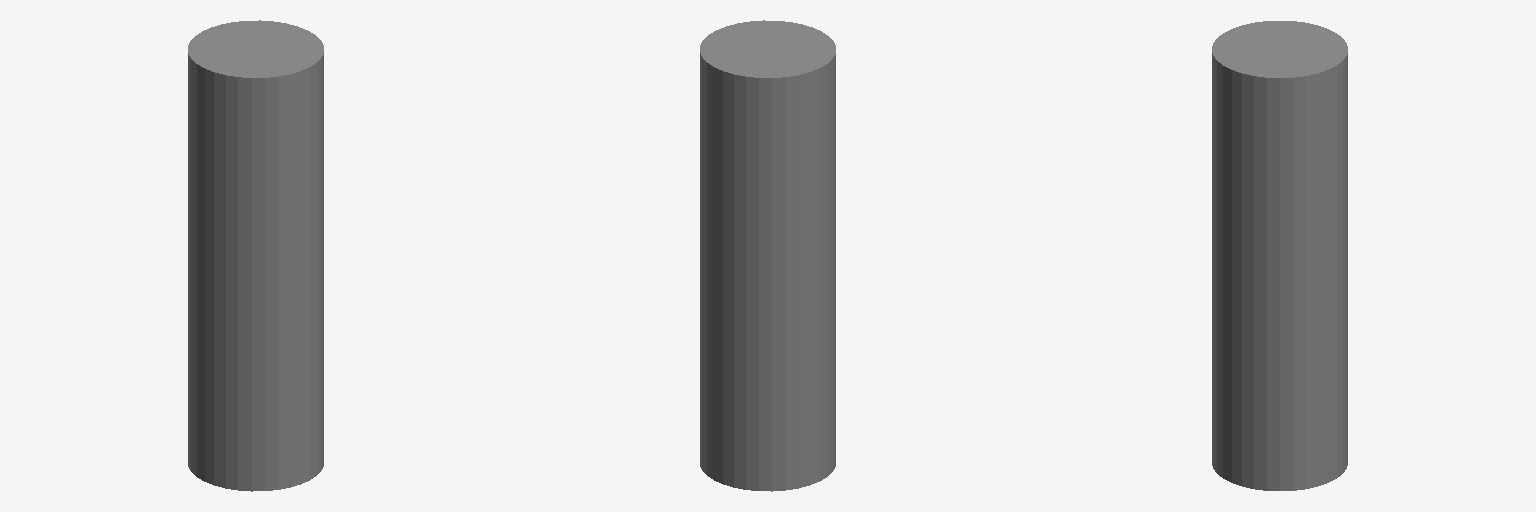
The robot description file, URDF, robot "synth-arm":
<?xml version="1.0" encoding="UTF-8"?>
<robot name="synth-arm"><material name="grey"><color rgba="0.6 0.6 0.6 1"/></material><link name="base"></link><link name="arm"><inertial><mass value="1.2"/><origin xyz="0 0 0.1" rpy="0 0 0"/><inertia ixx="0.01" ixy="0" ixz="0" iyy="0.01" iyz="0" izz="0.005"/></inertial><visual><geometry><cylinder radius="0.03" length="0.2"/></geometry><material name="grey"/></visual><collision><geometry><box size="0.05 0.05 0.2"/></geometry></collision></link><link name="tool"><visual><origin xyz="0 0 0.2"/><geometry><mesh filename="package://x/tool.dae"/></geometry></visual><collision><geometry><mesh filename="package://x/tool_collision.stl"/></geometry></collision></link><link name="finger_l"></link><link name="finger_r"></link><joint name="j1" type="revolute"><parent link="base"/><child link="arm"/><axis xyz="0 0 1"/><limit lower="-1.5" upper="1.5" effort="10" velocity="2"/><dynamics damping="0.1" friction="0.05"/><calibration rising="0.0"/><safety_controller soft_lower_limit="-1.4" soft_upper_limit="1.4" k_position="10" k_velocity="1"/></joint><joint name="j2" type="continuous"><parent link="arm"/><child link="tool"/><origin xyz="0 0 0.2"/><axis xyz="1 0 0"/></joint><joint name="j3" type="prismatic"><parent link="tool"/><child link="finger_l"/><axis xyz="0 1 0"/><limit lower="0" upper="0.04" effort="40" velocity="0.1"/></joint><joint name="j4" type="prismatic"><parent link="tool"/><child link="finger_r"/><axis xyz="0 1 0"/><limit lower="0" upper="0.04" effort="40" velocity="0.1"/><mimic joint="j3" multiplier="-1" offset="0"/></joint><gazebo reference="arm"><mu1>0.8</mu1><mu2>0.8</mu2></gazebo><ros2_control name="ctl" type="system"><joint name="j1"/></ros2_control></robot>

--- Facts derived from the render (not from the file) ---
Views: 3 orthographic renders of the robot side by side, from view 1: azimuth 30°, elevation 25°; view 2: azimuth 150°, elevation 25°; view 3: azimuth 270°, elevation 25°.
Model synth-arm with 5 links and 4 joints (1 revolute, 1 continuous, 2 prismatic), rooted at base, posed all joints at 0.
Visible links, largest first — view 1: arm; view 2: arm; view 3: arm.
Boxes of the visible links, x1,y1,x2,y2 form: arm: (188,20,323,491); arm: (700,20,835,491); arm: (1212,21,1347,490).
Bounding box of the posed robot: 0.06 × 0.06 × 0.2 m (x, y, z).
Meshes: 1 distinct files referenced, 0 mesh visuals loaded (none loaded); not drawn: 1 (reference not matched to a file when rendering).
